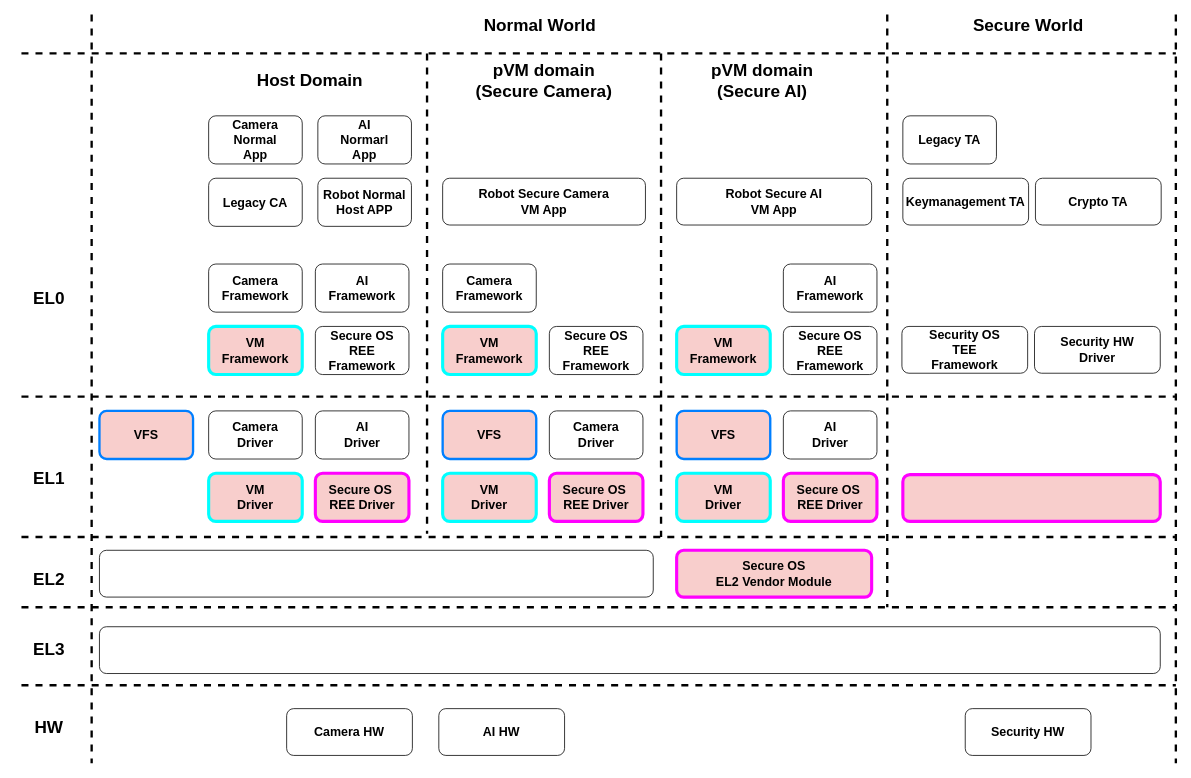
Some shapes in this 1191 by 778 pixel diagram are drawn without their labels. Here are the shapes that lost their labels. From the top down, the box of each, then its label:
(901, 473, 1161, 523): Secure OS Kernel (RTOS)
(99, 550, 653, 597): pKVM (Protected KVM)
(99, 626, 1160, 674): Secure OS SPD (Secure Payload Disptatcher)
